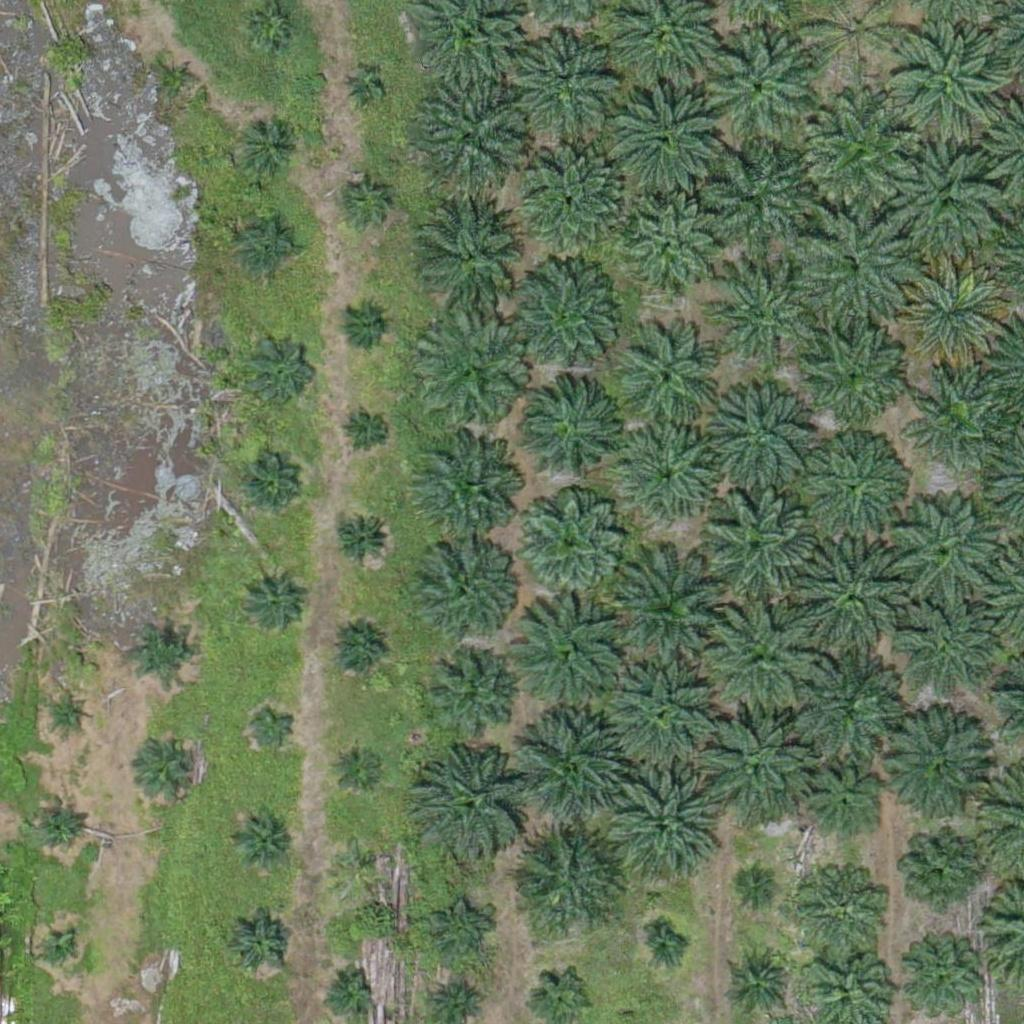Kelapa_Sawit: (610, 548, 735, 674), (408, 742, 533, 868), (605, 656, 718, 770), (515, 601, 628, 715), (513, 486, 626, 600), (417, 318, 530, 432), (878, 713, 991, 826), (796, 541, 909, 654), (782, 642, 895, 755), (603, 765, 716, 878), (516, 707, 629, 820), (507, 822, 620, 935), (415, 79, 528, 192), (415, 194, 528, 307), (698, 142, 811, 255), (706, 34, 819, 147), (802, 95, 915, 208), (896, 260, 1009, 373), (893, 493, 1006, 606), (798, 213, 911, 326), (794, 318, 907, 431), (507, 263, 620, 376), (696, 702, 808, 816), (410, 437, 522, 551), (707, 600, 819, 713), (610, 80, 722, 193), (889, 144, 1001, 257), (890, 22, 1002, 135), (706, 258, 818, 371), (702, 490, 814, 603), (525, 146, 625, 247), (521, 32, 621, 133), (622, 200, 722, 301), (804, 438, 904, 539), (711, 383, 811, 484), (619, 332, 719, 433), (416, 535, 516, 636), (620, 425, 720, 525), (524, 379, 624, 479), (796, 863, 884, 951), (426, 652, 514, 740), (914, 375, 1001, 464), (901, 607, 988, 695), (904, 833, 979, 909), (802, 766, 877, 842), (244, 331, 319, 406), (142, 735, 205, 798), (131, 619, 194, 682), (240, 458, 303, 521), (229, 807, 292, 870), (229, 912, 292, 975), (330, 508, 393, 571), (240, 118, 302, 181), (239, 215, 301, 278), (241, 569, 303, 632), (429, 899, 491, 962), (327, 620, 389, 683), (342, 175, 392, 226), (333, 737, 383, 788), (332, 834, 382, 885), (322, 963, 372, 1014), (248, 699, 298, 750), (338, 299, 388, 350), (246, 3, 296, 53), (733, 956, 783, 1006), (34, 797, 84, 847), (342, 407, 392, 457), (741, 867, 779, 905), (51, 695, 89, 733), (41, 933, 79, 971), (161, 61, 199, 99), (344, 70, 382, 108), (646, 929, 683, 967)
